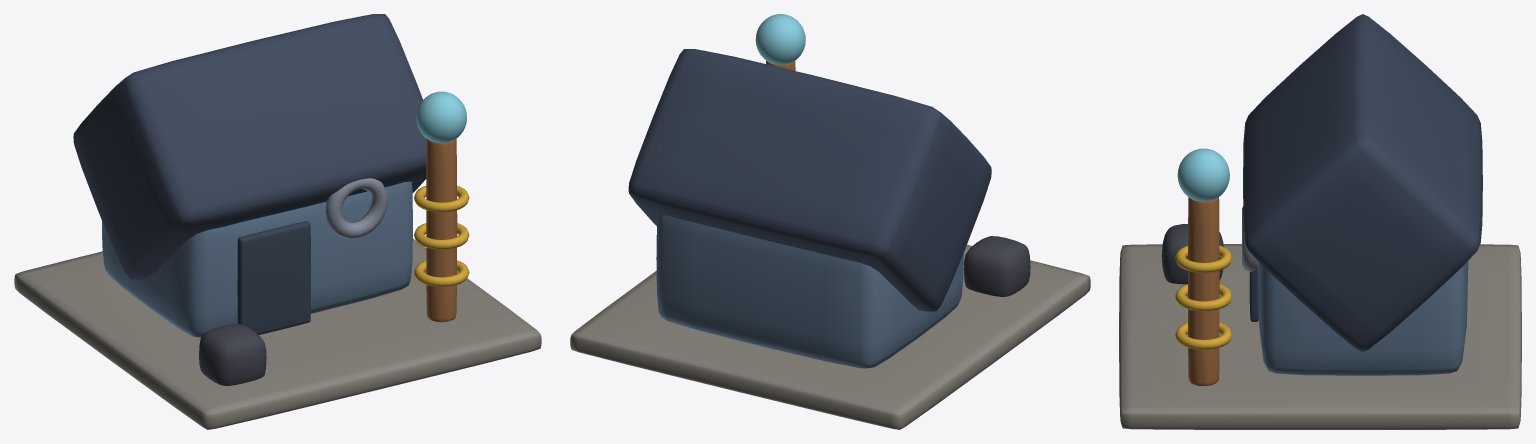
Rendered from Tueftlerschuppen.fbx.
3 views of the same model, side by side, from view 1: azimuth 30°, elevation 25°; view 2: azimuth 150°, elevation 25°; view 3: azimuth 270°, elevation 25° (orthographic). The views are drawn at different scales.
Visible parts, largest first — view 1: Tueftlerschuppen; view 2: Tueftlerschuppen; view 3: Tueftlerschuppen.
Part boxes in pixels (x1,y1,x2,y2): Tueftlerschuppen: [14, 14, 541, 429]; Tueftlerschuppen: [570, 14, 1090, 429]; Tueftlerschuppen: [1119, 14, 1521, 429].
Bounding box in the file's own units: 1.9 × 1.42 × 1.9.
